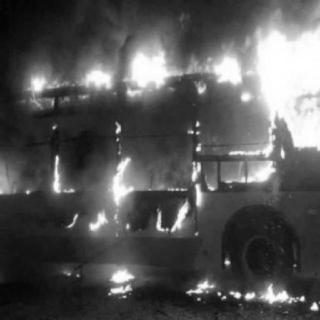Fire: (21, 40, 317, 312)
